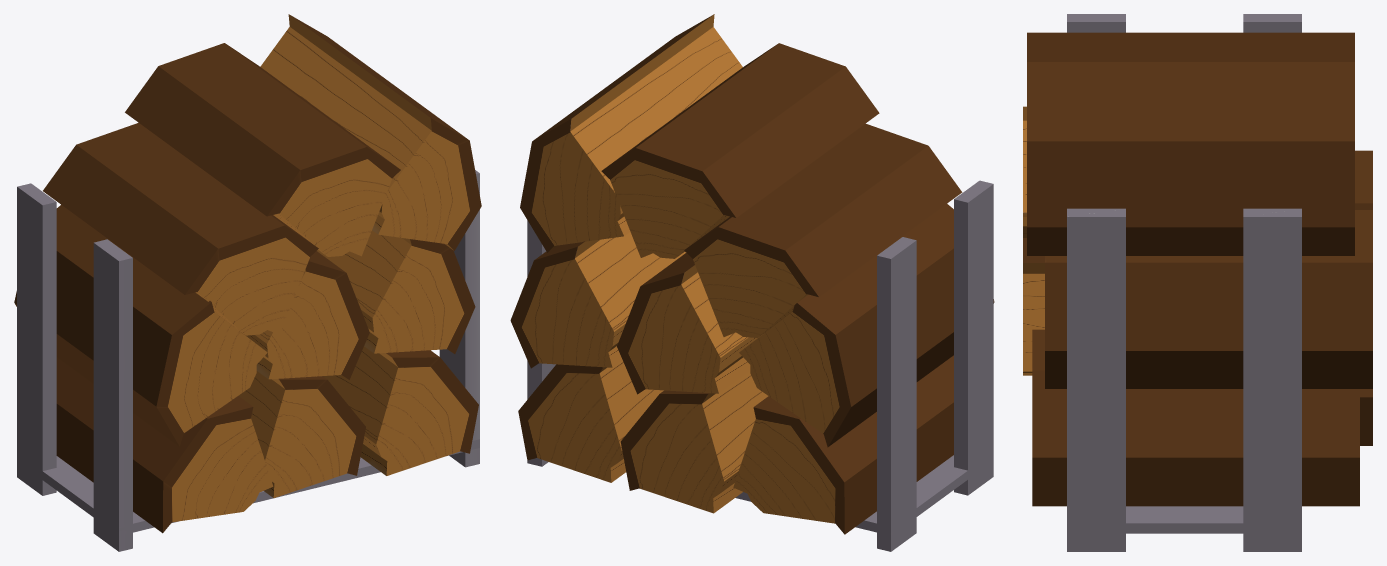
The model's file is FireWoodHolder 1.fbx.
3 renders of one model, left to right at view 1: azimuth 30°, elevation 25°; view 2: azimuth 150°, elevation 25°; view 3: azimuth 270°, elevation 25°, orthographic. The views are drawn at different scales.
Parts seen in each view (by area): view 1: FireWoodHolder; view 2: FireWoodHolder; view 3: FireWoodHolder.
Part boxes in pixels (box(x1,y1,x2,y2)): FireWoodHolder: box(14, 14, 481, 551); FireWoodHolder: box(510, 14, 994, 551); FireWoodHolder: box(1023, 14, 1372, 551).
Size of the model in its own units: 95.06 by 94.34 by 69.23.
